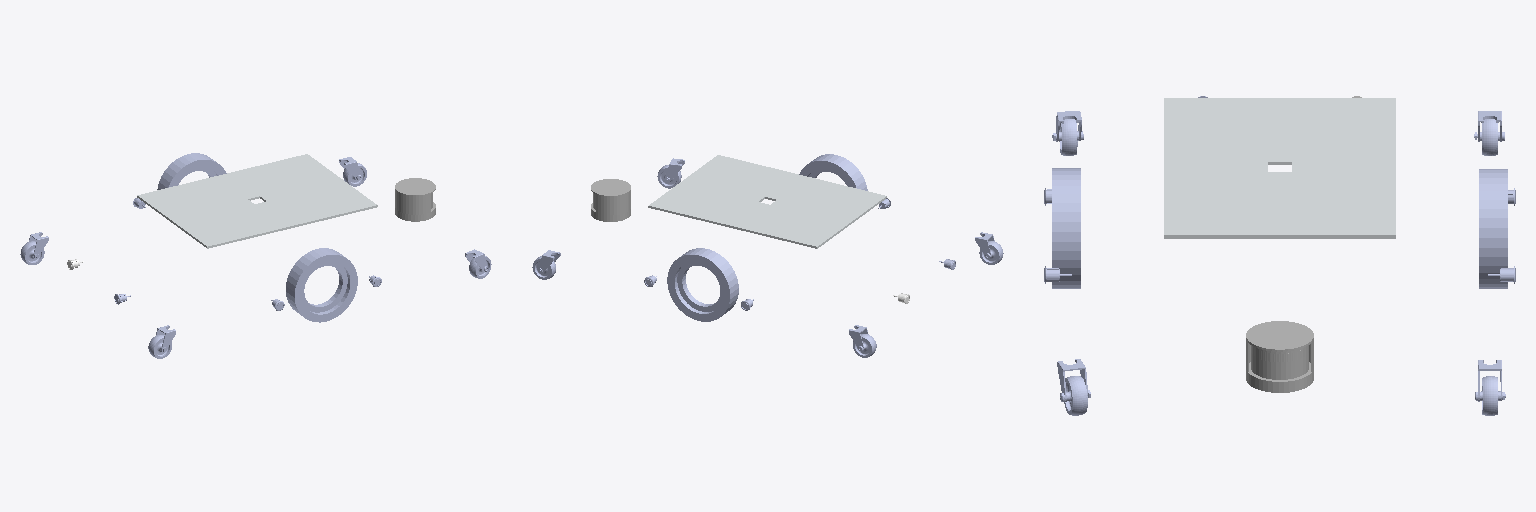
--- What the picture shows (computed from the rendered views, not written in the file) ---
3 views of the same robot in one strip: view 1: azimuth 30°, elevation 25°; view 2: azimuth 150°, elevation 25°; view 3: azimuth 270°, elevation 25° (orthographic).
Robot: arabv — 20 links, 19 joints (10 continuous, 1 prismatic, 8 fixed); root link root; default pose: every joint at zero.
Visible links, largest first — view 1: table, rightwheel, lidar, leftwheel; view 2: table, leftwheel, lidar, rightwheel; view 3: table, lidar, rightwheel, leftwheel, rf_castorwheel, lf_castorwheel, rb_castorwheel, lb_castorwheel.
Link boxes in pixels (left/top/right/bottom): table: left=137, top=154, right=377, bottom=248; rightwheel: left=286, top=248, right=357, bottom=322; lidar: left=395, top=178, right=435, bottom=221; leftwheel: left=157, top=153, right=226, bottom=189; table: left=648, top=155, right=886, bottom=248; leftwheel: left=667, top=248, right=738, bottom=321; lidar: left=591, top=179, right=630, bottom=221; rightwheel: left=799, top=154, right=867, bottom=190; table: left=1164, top=98, right=1395, bottom=238; lidar: left=1246, top=321, right=1313, bottom=392; rightwheel: left=1052, top=168, right=1080, bottom=288; leftwheel: left=1479, top=169, right=1507, bottom=288; rf_castorwheel: left=1064, top=376, right=1087, bottom=415; lf_castorwheel: left=1480, top=376, right=1500, bottom=415; rb_castorwheel: left=1058, top=119, right=1078, bottom=155; lb_castorwheel: left=1480, top=119, right=1499, bottom=155.
Bounding box of the posed robot: 0.8581 × 0.61 × 0.168 m (x, y, z).
18 mesh visuals loaded from 19 distinct referenced files (18 binary STL); not drawn: 1 (reference not matched to a file when rendering).

URDF robot description (arabv):
<?xml version="1.0" encoding="utf-8"?>
<!-- This URDF was automatically created by SolidWorks to URDF Exporter! Originally created by Stephen Brawner ([email redacted]) 
     Commit Version: 1.6.0-1-g15f4949  Build Version: 1.6.7594.29634
     For more information, please see http://wiki.ros.org/sw_urdf_exporter -->
<robot
  name="arabv">
  <link name="root">
  </link>
  <link
    name="base_link">
    <inertial>
      <origin
        xyz="-0.0078035 -0.00019091 0.049383"
        rpy="0 0 0" />
      <mass
        value="34.462" />
      <inertia
        ixx="0.7531"
        ixy="0.0025666"
        ixz="0.0054956"
        iyy="1.4448"
        iyz="2.2087E-06"
        izz="2.1661" />
    </inertial>
    <visual>
      <origin
        xyz="0 0 0"
        rpy="0 0 0" />
      <geometry>
        <mesh
          filename="package://arabv/meshes/base_link.STL" />
      </geometry>
      <material
        name="">
        <color
          rgba="0.12549 0.12549 0.14118 1" />
      </material>
    </visual>
    <collision>
      <origin
        xyz="0 0 0"
        rpy="0 0 0" />
      <geometry>
        <mesh
          filename="package://arabv/meshes/base_link.STL" />
      </geometry>
    </collision>
  </link>
  <joint
    name="base_joint"
    type="fixed">
    <origin
      xyz="0 0 0.044"
      rpy="0 0 0" />
    <parent
      link="root" />
    <child
      link="base_link" />
    <axis
      xyz="0 0 1" />
  </joint>
  <link
    name="rightwheel">
    <inertial>
      <origin
        xyz="9.992E-16 8.3267E-17 -0.0075"
        rpy="0 0 0" />
      <mass
        value="0.36438" />
      <inertia
        ixx="0.00086153"
        ixy="0"
        ixz="0"
        iyy="0.00086153"
        iyz="-0"
        izz="0.0016479" />
    </inertial>
    <visual>
      <origin
        xyz="0 0 0"
        rpy="0 0 0" />
      <geometry>
        <mesh
          filename="package://arabv/meshes/rightwheel.STL" />
      </geometry>
      <material
        name="">
        <color
          rgba="0.79216 0.81961 0.93333 1" />
      </material>
    </visual>
    <collision>
      <origin
        xyz="0 0 0"
        rpy="0 0 0" />
      <geometry>
        <cylinder length="0.0381" radius="0.0782"/>
      </geometry>
    </collision>
  </link>
  <joint
    name="rw_joint"
    type="continuous">
    <origin
      xyz="-0.00092715 -0.28428 0.035499"
      rpy="1.5708 0 0" />
    <parent
      link="base_link" />
    <child
      link="rightwheel" />
    <axis
      xyz="0 0 -1" />
  </joint>
  <link
    name="leftwheel">
    <inertial>
      <origin
        xyz="0 -9.71445146547012E-17 -0.00749999999999984"
        rpy="0 0 0" />
      <mass
        value="0.364383574103098" />
      <inertia
        ixx="0.000861533905285282"
        ixy="-1.51110677790167E-20"
        ixz="2.07851056899154E-19"
        iyy="0.000861533905285283"
        iyz="1.01658497738061E-17"
        izz="0.00164785605224862" />
    </inertial>
    <visual>
      <origin
        xyz="0 0 0"
        rpy="0 0 0" />
      <geometry>
        <mesh
          filename="package://arabv/meshes/leftwheel.STL" />
      </geometry>
      <material
        name="">
        <color
          rgba="0.792156862745098 0.819607843137255 0.933333333333333 1" />
      </material>
    </visual>
    <collision>
      <origin
        xyz="0 0 0"
        rpy="0 0 0" />
      <geometry>
        <cylinder length="0.0381" radius="0.0782"/>
      </geometry>
    </collision>
  </link>
  <joint
    name="lw_joint"
    type="continuous">
    <origin
      xyz="0.00092715 0.28427 0.035499"
      rpy="1.5708 0 3.1416" />
    <parent
      link="base_link" />
    <child
      link="leftwheel" />
    <axis
      xyz="0 0 1" />
  </joint>
  <link
    name="rf_castor">
    <inertial>
      <origin
        xyz="0.0174324276107802 0.00465848380353219 -0.0125515664222428"
        rpy="0 0 0" />
      <mass
        value="0.00720332060975436" />
      <inertia
        ixx="1.83882308216762E-06"
        ixy="0"
        ixz="0"
        iyy="1.83882308216762E-06"
        iyz="0"
        izz="9.251443708E-06" />
    </inertial>
    <visual>
      <origin
        xyz="0 0 0"
        rpy="0 0 0" />
      <geometry>
        <mesh
          filename="package://arabv/meshes/rf_castor.STL" />
      </geometry>
      <material
        name="">
        <color
          rgba="0.792156862745098 0.819607843137255 0.933333333333333 1" />
      </material>
    </visual>
    <collision>
      <origin
        xyz="0 0 0"
        rpy="0 0 0" />
      <geometry>
        <mesh
          filename="package://arabv/meshes/rf_castor.STL" />
      </geometry>
    </collision>
  </link>
  <joint
    name="rfc_joint"
    type="continuous">
    <origin
      xyz="0.372 -0.272 0.0105"
      rpy="0 0 0" />
    <parent
      link="base_link" />
    <child
      link="rf_castor" />
    <axis
      xyz="0 0 -1" />
  </joint>
  <link
    name="rf_castorwheel">
    <inertial>
      <origin
        xyz="-0.00268381216680103 1.77809156287623E-17 -0.00963312785409444"
        rpy="0 0 0" />
      <mass
        value="0.0288085187854741" />
      <inertia
        ixx="6.48651737942188E-06"
        ixy="0"
        ixz="0"
        iyy="6.48651737942188E-06"
        iyz="0"
        izz="1.297303476E-05" />
    </inertial>
    <visual>
      <origin
        xyz="0 0 0"
        rpy="0 0 0" />
      <geometry>
        <mesh
          filename="package://arabv/meshes/rf_castorwheel.STL" />
      </geometry>
      <material
        name="">
        <color
          rgba="0.792156862745098 0.819607843137255 0.933333333333333 1" />
      </material>
    </visual>
    <collision>
      <origin
        xyz="0 0 0"
        rpy="0 0 0" />
      <geometry>
        <cylinder length="0.02" radius="0.024"/>
      </geometry>
    </collision>
  </link>
  <joint
    name="rfcw_joint"
    type="continuous">
    <origin
      xyz="0.027823 -0.0026293 -0.028494"
      rpy="1.5708 0 0" />
    <parent
      link="rf_castor" />
    <child
      link="rf_castorwheel" />
    <axis
      xyz="0.26838 0 0.96331" />
  </joint>
  <link
    name="lb_castor">
    <inertial>
      <origin
        xyz="-0.018043958911865 8.09354320051581E-05 -0.0125515664222308"
        rpy="0 0 0" />
      <mass
        value="0.00720332060975437" />
      <inertia
        ixx="1.83882308216762E-06"
        ixy="0"
        ixz="0"
        iyy="1.83882308216762E-06"
        iyz="0"
        izz="9.251443708E-06" />
    </inertial>
    <visual>
      <origin
        xyz="0 0 0"
        rpy="0 0 0" />
      <geometry>
        <mesh
          filename="package://arabv/meshes/lb_castor.STL" />
      </geometry>
      <material
        name="">
        <color
          rgba="0.792156862745098 0.819607843137255 0.933333333333333 1" />
      </material>
    </visual>
    <collision>
      <origin
        xyz="0 0 0"
        rpy="0 0 0" />
      <geometry>
        <mesh
          filename="package://arabv/meshes/lb_castor.STL" />
      </geometry>
    </collision>
  </link>
  <joint
    name="lbc_joint"
    type="continuous">
    <origin
      xyz="-0.372 0.272 0.0105"
      rpy="0 0 0" />
    <parent
      link="base_link" />
    <child
      link="lb_castor" />
    <axis
      xyz="0 0 -1" />
  </joint>
  <link
    name="lb_castorwheel">
    <inertial>
      <origin
        xyz="-6.09761950813841E-05 -8.7733639797527E-16 -0.00999981409345357"
        rpy="0 0 0" />
      <mass
        value="0.0288085187854742" />
      <inertia
        ixx="6.48651737942188E-06"
        ixy="0"
        ixz="0"
        iyy="6.48651737942188E-06"
        iyz="0"
        izz="1.297303476E-05" />
    </inertial>
    <visual>
      <origin
        xyz="0 0 0"
        rpy="0 0 0" />
      <geometry>
        <mesh
          filename="package://arabv/meshes/lb_castorwheel.STL" />
      </geometry>
      <material
        name="">
        <color
          rgba="0.792156862745098 0.819607843137255 0.933333333333333 1" />
      </material>
    </visual>
    <collision>
      <origin
        xyz="0 0 0"
        rpy="0 0 0" />
      <geometry>
        <cylinder length="0.02" radius="0.024"/>
      </geometry>
    </collision>
  </link>
  <joint
    name="lbcw_joint"
    type="continuous">
    <origin
      xyz="-0.026035 -0.010159 -0.028494"
      rpy="1.5708 0 0" />
    <parent
      link="lb_castor" />
    <child
      link="lb_castorwheel" />
    <axis
      xyz="-0.0060976 0 -0.99998" />
  </joint>
  <link
    name="rb_castor">
    <inertial>
      <origin
        xyz="-0.0179981055663757 -0.00128809928919611 -0.0125515664222308"
        rpy="0 0 0" />
      <mass
        value="0.00720332060975435" />
      <inertia
        ixx="1.83882308216762E-06"
        ixy="0"
        ixz="0"
        iyy="1.83882308216762E-06"
        iyz="0"
        izz="9.251443708E-06" />
    </inertial>
    <visual>
      <origin
        xyz="0 0 0"
        rpy="0 0 0" />
      <geometry>
        <mesh
          filename="package://arabv/meshes/rb_castor.STL" />
      </geometry>
      <material
        name="">
        <color
          rgba="0.792156862745098 0.819607843137255 0.933333333333333 1" />
      </material>
    </visual>
    <collision>
      <origin
        xyz="0 0 0"
        rpy="0 0 0" />
      <geometry>
        <mesh
          filename="package://arabv/meshes/rb_castor.STL" />
      </geometry>
    </collision>
  </link>
  <joint
    name="rbc_joint"
    type="continuous">
    <origin
      xyz="-0.372 -0.272 0.0105"
      rpy="0 0 0" />
    <parent
      link="base_link" />
    <child
      link="rb_castor" />
    <axis
      xyz="0 0 -1" />
  </joint>
  <link
    name="rb_castorwheel">
    <inertial>
      <origin
        xyz="-0.00081937906801931 -2.29850860566927E-17 -0.0099663743629713"
        rpy="0 0 0" />
      <mass
        value="0.0288085187854741" />
      <inertia
        ixx="6.48651737942188E-06"
        ixy="0"
        ixz="0"
        iyy="6.48651737942188E-06"
        iyz="0"
        izz="1.297303476E-05" />
    </inertial>
    <visual>
      <origin
        xyz="0 0 0"
        rpy="0 0 0" />
      <geometry>
        <mesh
          filename="package://arabv/meshes/rb_castorwheel.STL" />
      </geometry>
      <material
        name="">
        <color
          rgba="0.792156862745098 0.819607843137255 0.933333333333333 1" />
      </material>
    </visual>
    <collision>
      <origin
        xyz="0 0 0"
        rpy="0 0 0" />
      <geometry>
        <cylinder length="0.02" radius="0.024"/>
      </geometry>
    </collision>
  </link>
  <joint
    name="rbcw_joint"
    type="continuous">
    <origin
      xyz="-0.025189 -0.012105 -0.028494"
      rpy="1.5708 0 0" />
    <parent
      link="rb_castor" />
    <child
      link="rb_castorwheel" />
    <axis
      xyz="-0.081938 0 -0.99664" />
  </joint>
  <link
    name="lf_castor">
    <inertial>
      <origin
        xyz="0.0180439589118652 -8.09354320061573E-05 -0.0125515664222309"
        rpy="0 0 0" />
      <mass
        value="0.0072033206097544" />
      <inertia
        ixx="1.83882308216762E-06"
        ixy="0"
        ixz="0"
        iyy="1.83882308216762E-06"
        iyz="0"
        izz="-9.251443708E-06" />
    </inertial>
    <visual>
      <origin
        xyz="0 0 0"
        rpy="0 0 0" />
      <geometry>
        <mesh
          filename="package://arabv/meshes/lf_castor.STL" />
      </geometry>
      <material
        name="">
        <color
          rgba="0.792156862745098 0.819607843137255 0.933333333333333 1" />
      </material>
    </visual>
    <collision>
      <origin
        xyz="0 0 0"
        rpy="0 0 0" />
      <geometry>
        <mesh
          filename="package://arabv/meshes/lf_castor.STL" />
      </geometry>
    </collision>
  </link>
  <joint
    name="lfc_joint"
    type="continuous">
    <origin
      xyz="0.372 0.272 0.0105"
      rpy="0 0 0" />
    <parent
      link="base_link" />
    <child
      link="lf_castor" />
    <axis
      xyz="0 0 -1" />
  </joint>
  <link
    name="lf_castorwheel">
    <inertial>
      <origin
        xyz="0.00154624727605912 5.96181090606329E-14 -0.0100096145128414"
        rpy="0 0 0" />
      <mass
        value="0.0288085187854741" />
      <inertia
        ixx="6.48651737942188E-06"
        ixy="0"
        ixz="0"
        iyy="6.48651737942188E-06"
        iyz="0"
        izz="1.297303476E-05" />
    </inertial>
    <visual>
      <origin
        xyz="0 0 0"
        rpy="0 0 0" />
      <geometry>
        <mesh
          filename="package://arabv/meshes/lf_castorwheel.STL" />
      </geometry>
      <material
        name="">
        <color
          rgba="0.792156862745098 0.819607843137255 0.933333333333333 1" />
      </material>
    </visual>
    <collision>
      <origin
        xyz="0 0 0"
        rpy="0 0 0" />
      <geometry>
        <cylinder length="0.02" radius="0.024"/>
      </geometry>
    </collision>
  </link>
  <joint
    name="lfcw_joint"
    type="continuous">
    <origin
      xyz="0.02455 -0.0098505 -0.028494"
      rpy="1.5708 0 0" />
    <parent
      link="lf_castor" />
    <child
      link="lf_castorwheel" />
    <axis
      xyz="0.0060976 0 0.99998" />
  </joint>
  <link
    name="lidar">
    <inertial>
      <origin
        xyz="-0.000819722392042199 8.60422844084496E-16 -0.0302313786122058"
        rpy="0 0 0" />
      <mass
        value="0.369882064981204" />
      <inertia
        ixx="0.000192654815321864"
        ixy="2.86061300173066E-21"
        ixz="-3.959554519593E-06"
        iyy="0.000185852197253899"
        iyz="-2.96012805271841E-18"
        izz="0.000308287637120591" />
    </inertial>
    <visual>
      <origin
        xyz="0 0 0"
        rpy="0 0 0" />
      <geometry>
        <mesh
          filename="package://arabv/meshes/lidar.STL" />
      </geometry>
      <material
        name="">
        <color
          rgba="0.752941176470588 0.752941176470588 0.752941176470588 1" />
      </material>
    </visual>
    <collision>
      <origin
        xyz="0 0 0"
        rpy="0 0 0" />
      <geometry>
        <mesh
          filename="package://arabv/meshes/lidar.STL" />
      </geometry>
    </collision>
  </link>
  <joint
    name="lidar_joint"
    type="fixed">
    <origin
      xyz="0.39 0 0.065"
      rpy="0 0 0" />
    <parent
      link="base_link" />
    <child
      link="lidar" />
    <axis
      xyz="0 0 0" />
    <limit
      lower="0"
      upper="0"
      effort="0"
      velocity="0" />
  </joint>
  <link
    name="table">
    <inertial>
      <origin
        xyz="5.55111512312578E-17 8.32667268468867E-17 0.00249999999999992"
        rpy="0 0 0" />
      <mass
        value="1.68885" />
      <inertia
        ixx="0.0127601071875"
        ixy="-8.5156884595617E-19"
        ixz="-4.176590713903E-21"
        iyy="0.0250073071875"
        iyz="-6.43658033746996E-23"
        izz="0.0377603775" />
    </inertial>
    <visual>
      <origin
        xyz="0 0 0"
        rpy="0 0 0" />
      <geometry>
        <mesh
          filename="package://arabv/meshes/table.STL" />
      </geometry>
      <material
        name="">
        <color
          rgba="0.898039215686275 0.917647058823529 0.929411764705882 1" />
      </material>
    </visual>
    <collision>
      <origin
        xyz="0 0 0"
        rpy="0 0 0" />
      <geometry>
        <mesh
          filename="package://arabv/meshes/table.STL" />
      </geometry>
    </collision>
  </link>
  <joint
    name="table_joint"
    type="prismatic">
    <origin
      xyz="0 0 0.119"
      rpy="0 0 0" />
    <parent
      link="base_link" />
    <child
      link="table" />
    <axis
      xyz="0 0 1" />
    <limit
      lower="0"
      upper="0.4"
      effort="100"
      velocity="1.0" />
    <safety_controller k_position="20"
      k_velocity="20"
      soft_lower_limit="-0.15"
      soft_upper_limit="0.0"/>
    <dynamics damping="50" friction="1"/>
  </joint>
  <link
    name="sonar_r1">
    <inertial>
      <origin
        xyz="4.2622699225614E-06 0.0100636317448406 -2.7313401605028E-07"
        rpy="0 0 0" />
      <mass
        value="0.00556060776160887" />
      <inertia
        ixx="3.4563126114394E-07"
        ixy="-4.25106477872237E-10"
        ixz="3.9755754594774E-13"
        iyy="2.4201492930678E-07"
        iyz="2.72415970257836E-11"
        izz="3.45637439573025E-07" />
    </inertial>
    <visual>
      <origin
        xyz="0 0 0"
        rpy="0 0 0" />
      <geometry>
        <mesh
          filename="package://arabv/meshes/sonar_r1.STL" />
      </geometry>
      <material
        name="">
        <color
          rgba="0.792156862745098 0.819607843137255 0.933333333333333 1" />
      </material>
    </visual>
    <collision>
      <origin
        xyz="0 0 0"
        rpy="0 0 0" />
      <geometry>
        <mesh
          filename="package://arabv/meshes/sonar_r1.STL" />
      </geometry>
    </collision>
  </link>
  <joint
    name="sonar_r1joint"
    type="fixed">
    <origin
      xyz="0.12 -0.305 0.025"
      rpy="0 0 0" />
    <parent
      link="base_link" />
    <child
      link="sonar_r1" />
    <axis
      xyz="0 0 0" />
  </joint>
  <link
    name="sonar_r2">
    <inertial>
      <origin
        xyz="3.33115586942379E-06 0.0100636317448406 2.67300349024446E-06"
        rpy="0 0 0" />
      <mass
        value="0.00556060776160887" />
      <inertia
        ixx="3.45633675625514E-07"
        ixy="-3.32239854491351E-10"
        ixz="-3.04072917433647E-12"
        iyy="2.42014929306781E-07"
        iyz="-2.66597639200076E-10"
        izz="3.45635025091452E-07" />
    </inertial>
    <visual>
      <origin
        xyz="0 0 0"
        rpy="0 0 0" />
      <geometry>
        <mesh
          filename="package://arabv/meshes/sonar_r2.STL" />
      </geometry>
      <material
        name="">
        <color
          rgba="0.792156862745098 0.819607843137255 0.933333333333333 1" />
      </material>
    </visual>
    <collision>
      <origin
        xyz="0 0 0"
        rpy="0 0 0" />
      <geometry>
        <mesh
          filename="package://arabv/meshes/sonar_r2.STL" />
      </geometry>
    </collision>
  </link>
  <joint
    name="sonar_r2joint"
    type="fixed">
    <origin
      xyz="-0.12 -0.305 0.025"
      rpy="0 0 0" />
    <parent
      link="base_link" />
    <child
      link="sonar_r2" />
    <axis
      xyz="0 0 0" />
  </joint>
  <link
    name="sonar_l1">
    <inertial>
      <origin
        xyz="2.63444063342E-06 -0.0100636317448406 3.36173610371304E-06"
        rpy="0 0 0" />
      <mass
        value="0.00556060776160889" />
      <inertia
        ixx="3.45635094985131E-07"
        ixy="2.62751491386843E-10"
        ixz="-3.02437260408655E-12"
        iyy="2.42014929306782E-07"
        iyz="3.3528983866361E-10"
        izz="3.45633605731839E-07" />
    </inertial>
    <visual>
      <origin
        xyz="0 0 0"
        rpy="0 0 0" />
      <geometry>
        <mesh
          filename="package://arabv/meshes/sonar_l1.STL" />
      </geometry>
      <material
        name="">
        <color
          rgba="0.792156862745098 0.819607843137255 0.933333333333333 1" />
      </material>
    </visual>
    <collision>
      <origin
        xyz="0 0 0"
        rpy="0 0 0" />
      <geometry>
        <mesh
          filename="package://arabv/meshes/sonar_l1.STL" />
      </geometry>
    </collision>
  </link>
  <joint
    name="sonar_l1joint"
    type="fixed">
    <origin
      xyz="0.12 0.305 0.025"
      rpy="0 0 0" />
    <parent
      link="base_link" />
    <child
      link="sonar_l1" />
    <axis
      xyz="0 0 0" />
  </joint>
  <link
    name="sonar_l2">
    <inertial>
      <origin
        xyz="0.0100636317448406 2.63444063330898E-06 3.36173610369223E-06"
        rpy="0 0 0" />
      <mass
        value="0.0055606077616089" />
      <inertia
        ixx="2.42014929306782E-07"
        ixy="-2.62751491385219E-10"
        ixz="-3.35289838663538E-10"
        iyy="3.45635094985131E-07"
        iyz="-3.02437260416429E-12"
        izz="3.45633605731839E-07" />
    </inertial>
    <visual>
      <origin
        xyz="0 0 0"
        rpy="0 0 0" />
      <geometry>
        <mesh
          filename="package://arabv/meshes/sonar_l2.STL" />
      </geometry>
      <material
        name="">
        <color
          rgba="0.792156862745098 0.819607843137255 0.933333333333333 1" />
      </material>
    </visual>
    <collision>
      <origin
        xyz="0 0 0"
        rpy="0 0 0" />
      <geometry>
        <mesh
          filename="package://arabv/meshes/sonar_l2.STL" />
      </geometry>
    </collision>
  </link>
  <joint
    name="sonar_l2joint"
    type="fixed">
    <origin
      xyz="-0.12 0.305 0.025"
      rpy="0 0 -1.5708" />
    <parent
      link="base_link" />
    <child
      link="sonar_l2" />
    <axis
      xyz="0 0 0" />
  </joint>
  <link
    name="sonar_b1">
    <inertial>
      <origin
        xyz="0.0100636317448406 -1.99136316285375E-06 3.77836205747717E-06"
        rpy="0 0 0" />
      <mass
        value="0.00556060776160887" />
      <inertia
        ixx="2.42014929306781E-07"
        ixy="1.98612803907417E-10"
        ixz="-3.76842906609881E-10"
        iyy="3.45636110844904E-07"
        iyz="2.56943302157578E-12"
        izz="3.45632589872062E-07" />
    </inertial>
    <visual>
      <origin
        xyz="0 0 0"
        rpy="0 0 0" />
      <geometry>
        <mesh
          filename="package://arabv/meshes/sonar_b1.STL" />
      </geometry>
      <material
        name="">
        <color
          rgba="0.792156862745098 0.819607843137255 0.933333333333333 1" />
      </material>
    </visual>
    <collision>
      <origin
        xyz="0 0 0"
        rpy="0 0 0" />
      <geometry>
        <mesh
          filename="package://arabv/meshes/sonar_b1.STL" />
      </geometry>
    </collision>
  </link>
  <joint
    name="sonar_b1joint"
    type="fixed">
    <origin
      xyz="-0.405 -0.1 0.025"
      rpy="0 0 0" />
    <parent
      link="base_link" />
    <child
      link="sonar_b1" />
    <axis
      xyz="0 0 0" />
  </joint>
  <link
    name="sonar_b2">
    <inertial>
      <origin
        xyz="0 0 0"
        rpy="0 0 0" />
      <mass
        value="0" />
      <inertia
        ixx="0"
        ixy="0"
        ixz="0"
        iyy="0"
        iyz="0"
        izz="0" />
    </inertial>
    <visual>
      <origin
        xyz="0 0 0"
        rpy="0 0 0" />
      <geometry>
        <mesh
          filename="package://arabv/meshes/sonar_b2.STL" />
      </geometry>
      <material
        name="">
        <color
          rgba="1 1 1 1" />
      </material>
    </visual>
    <collision>
      <origin
        xyz="0 0 0"
        rpy="0 0 0" />
      <geometry>
        <mesh
          filename="package://arabv/meshes/sonar_b2.STL" />
      </geometry>
    </collision>
  </link>
  <joint
    name="sonar_b2joint"
    type="fixed">
    <origin
      xyz="-0.40584 0.1 0.025"
      rpy="0 0 0" />
    <parent
      link="base_link" />
    <child
      link="sonar_b2" />
    <axis
      xyz="0 0 0" />
  </joint>
  <gazebo>
        <plugin name="differential_drive_controller" filename="libgazebo_ros_diff_drive.so">
        <!-- Plugin update rate in Hz -->
        <updateRate>20</updateRate>
        <!-- Name of left joint, defaults to `left_joint` -->
        <leftJoint>lw_joint</leftJoint>
        <!-- Name of right joint, defaults to `right_joint` -->
        <rightJoint>rw_joint</rightJoint>
        <!-- The distance from the center of one wheel to the other, in meters, defaults to 0.34 m -->
        <wheelSeparation>0.51545</wheelSeparation>
        <!-- Diameter of the wheels, in meters, defaults to 0.15 m -->
        <wheelDiameter>0.1564</wheelDiameter>
        <!-- Wheel acceleration, in rad/s^2, defaults to 0.0 rad/s^2 -->
        <wheelAcceleration>10.0</wheelAcceleration>
        <!-- Maximum torque which the wheels can produce, in Nm, defaults to 5 Nm -->
        <wheelTorque>5</wheelTorque>
        <!-- Topic to receive geometry_msgs/Twist message commands, defaults to `cmd_vel` -->
        <commandTopic>/arabv/base_controller/cmd_vel</commandTopic>
        <!-- Topic to publish nav_msgs/Odometry messages, defaults to `odom` -->
        <odometryTopic>/arabv/base_controller/odom</odometryTopic>
        <!-- Odometry frame, defaults to `odom` -->
        <odometryFrame>odom</odometryFrame>
        <!-- Robot frame to calculate odometry from, defaults to `base_footprint` -->
        <robotBaseFrame>root</robotBaseFrame>
        <!-- Odometry source, 0 for ENCODER, 1 for WORLD, defaults to WORLD -->
        <odometrySource>1</odometrySource>
        <!-- Set to true to publish transforms for the wheel links, defaults to false -->
        <publishWheelTF>true</publishWheelTF>
        <!-- Set to true to publish transforms for the odometry, defaults to true -->
        <publishOdom>true</publishOdom>
        <!-- Set to true to publish sensor_msgs/JointState on /joint_states for the wheel joints, defaults to false -->
        <publishWheelJointState>true</publishWheelJointState>
        <!-- Set to true to swap right and left wheels, defaults to true -->
        <legacyMode>false</legacyMode>
        </plugin>
    </gazebo>
    <gazebo reference="root">
        <material>
            Gazebo/Black
        </material>
    </gazebo>
    <gazebo reference="base_link">
        <material>
            Gazebo/Black
        </material>
    </gazebo>
    <!-- <gazebo reference="leftwheel">
        <material>
            Gazebo/Yellow
        </material>
    </gazebo>
    <gazebo reference="rightwheel">
        <material>
            Gazebo/Yellow
        </material>
    </gazebo> -->
    <gazebo reference="lf_castorwheel">
        <material>
            Gazebo/Yellow
        </material>
    </gazebo>
    <gazebo reference="lb_castorwheel">
        <material>
            Gazebo/Yellow
        </material>
    </gazebo>
    <gazebo reference="rb_castorwheel">
        <material>
            Gazebo/Yellow
        </material>
    </gazebo>
    <gazebo reference="rf_castorwheel">
        <material>
            Gazebo/Yellow
        </material>
    </gazebo>

<gazebo reference="lidar">
    <sensor type="ray" name="head_rplidar_sensor">
      <pose>0 0 0 0 0 0</pose>
      <visualize>true</visualize>
      <update_rate>40</update_rate>
      <ray>
        <scan>
          <horizontal>
            <samples>720</samples>
            <resolution>1</resolution>
            <min_angle>-3.14159265</min_angle>
            <max_angle>3.14159265</max_angle>
          </horizontal>
        </scan>
        <range>
          <min>0.2</min>
          <max>12.0</max>
          <resolution>0.01</resolution>
        </range>
        <noise>
          <type>gaussian</type>
          <mean>0.0</mean>
          <stddev>0.01</stddev>
        </noise>
      </ray>
      <plugin name="gazebo_ros_head_rplidar_controller" filename="libgazebo_ros_laser.so">
        <topicName>/arabv/lidar/scan</topicName>
        <frameName>lidar</frameName>
      </plugin>
    </sensor>
  </gazebo>
  <!-- <transmission name="linearActuator">
    <type>transmission_interface/SimpleTransmission</type>
    <joint name="table_joint">
    <hardwareInterface>hardware_interface/PositionJointInterface</hardwareInterface>
    </joint>
    <actuator name="motor1">
    <mechanicalReduction>1</mechanicalReduction>
    </actuator>
  </transmission>
  <gazebo> 
    <plugin name="gazebo_ros_control" filename="libgazebo_ros_control.so">
      <robotNamespace>/arabv</robotNamespace>
    </plugin>
  </gazebo> -->
</robot>
